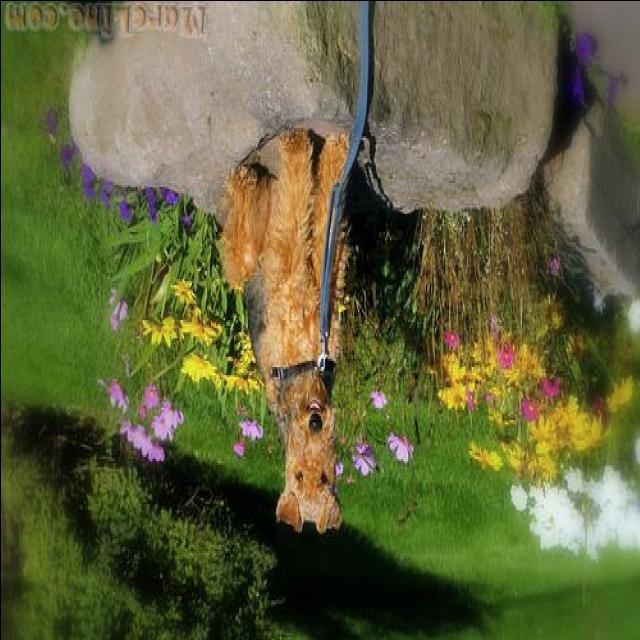airedale: (218, 122, 350, 534)
